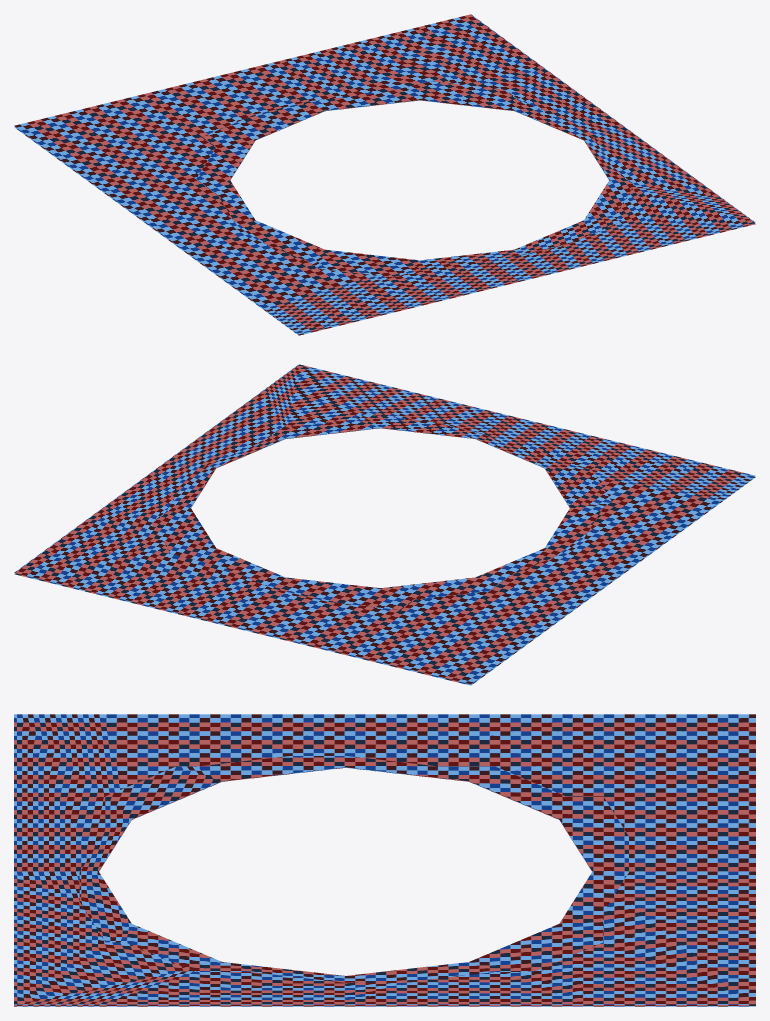
The model's file is Observatory_roof_piece_01.fbx.
3 renders of one model, top to bottom at view 1: azimuth 30°, elevation 25°; view 2: azimuth 150°, elevation 25°; view 3: azimuth 270°, elevation 25°, orthographic. The views are drawn at different scales.
Visible parts, largest first — view 1: Observatory_roof_piece_01; view 2: Observatory_roof_piece_01; view 3: Observatory_roof_piece_01.
Part boxes in pixels (<box>): Observatory_roof_piece_01: <box>14,14,755,335</box>; Observatory_roof_piece_01: <box>14,364,755,685</box>; Observatory_roof_piece_01: <box>14,714,755,1006</box>.
Bounding box in the file's own units: 2081 × 7.29 × 2247.
Materials: 1 (1 with a texture image).
